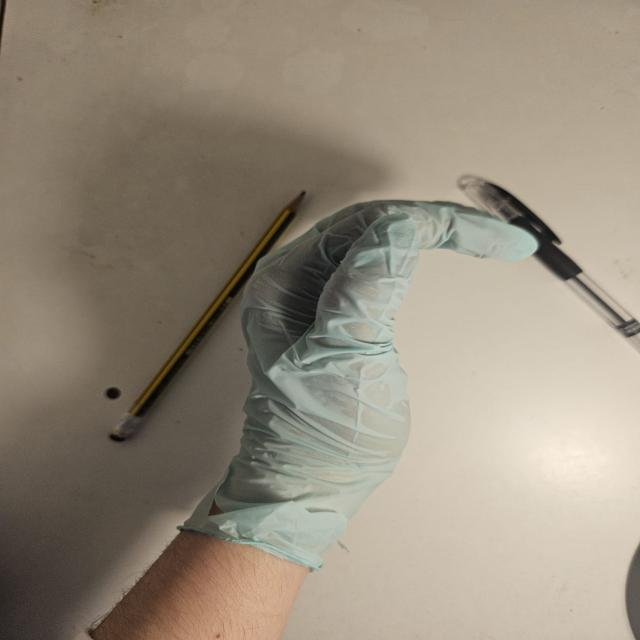gloves_damaged: (175, 195, 543, 575)
